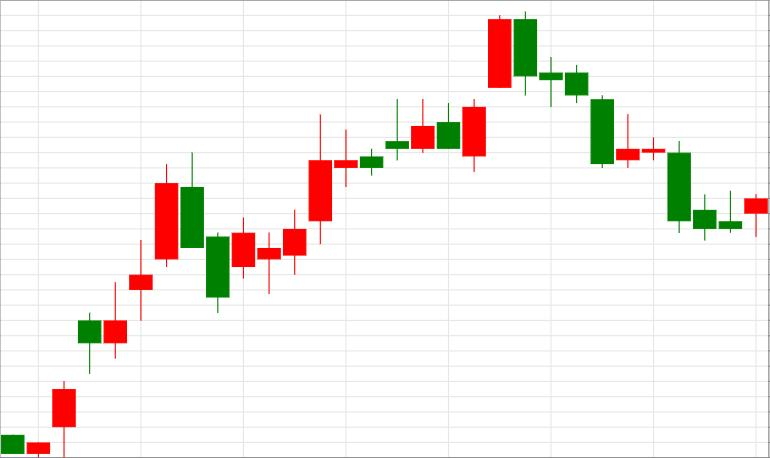bearish_engulfing_fall: (258, 12, 536, 294)
